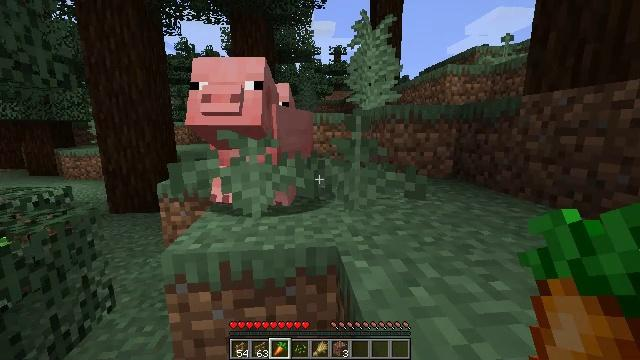pig: (185, 58, 316, 211)
